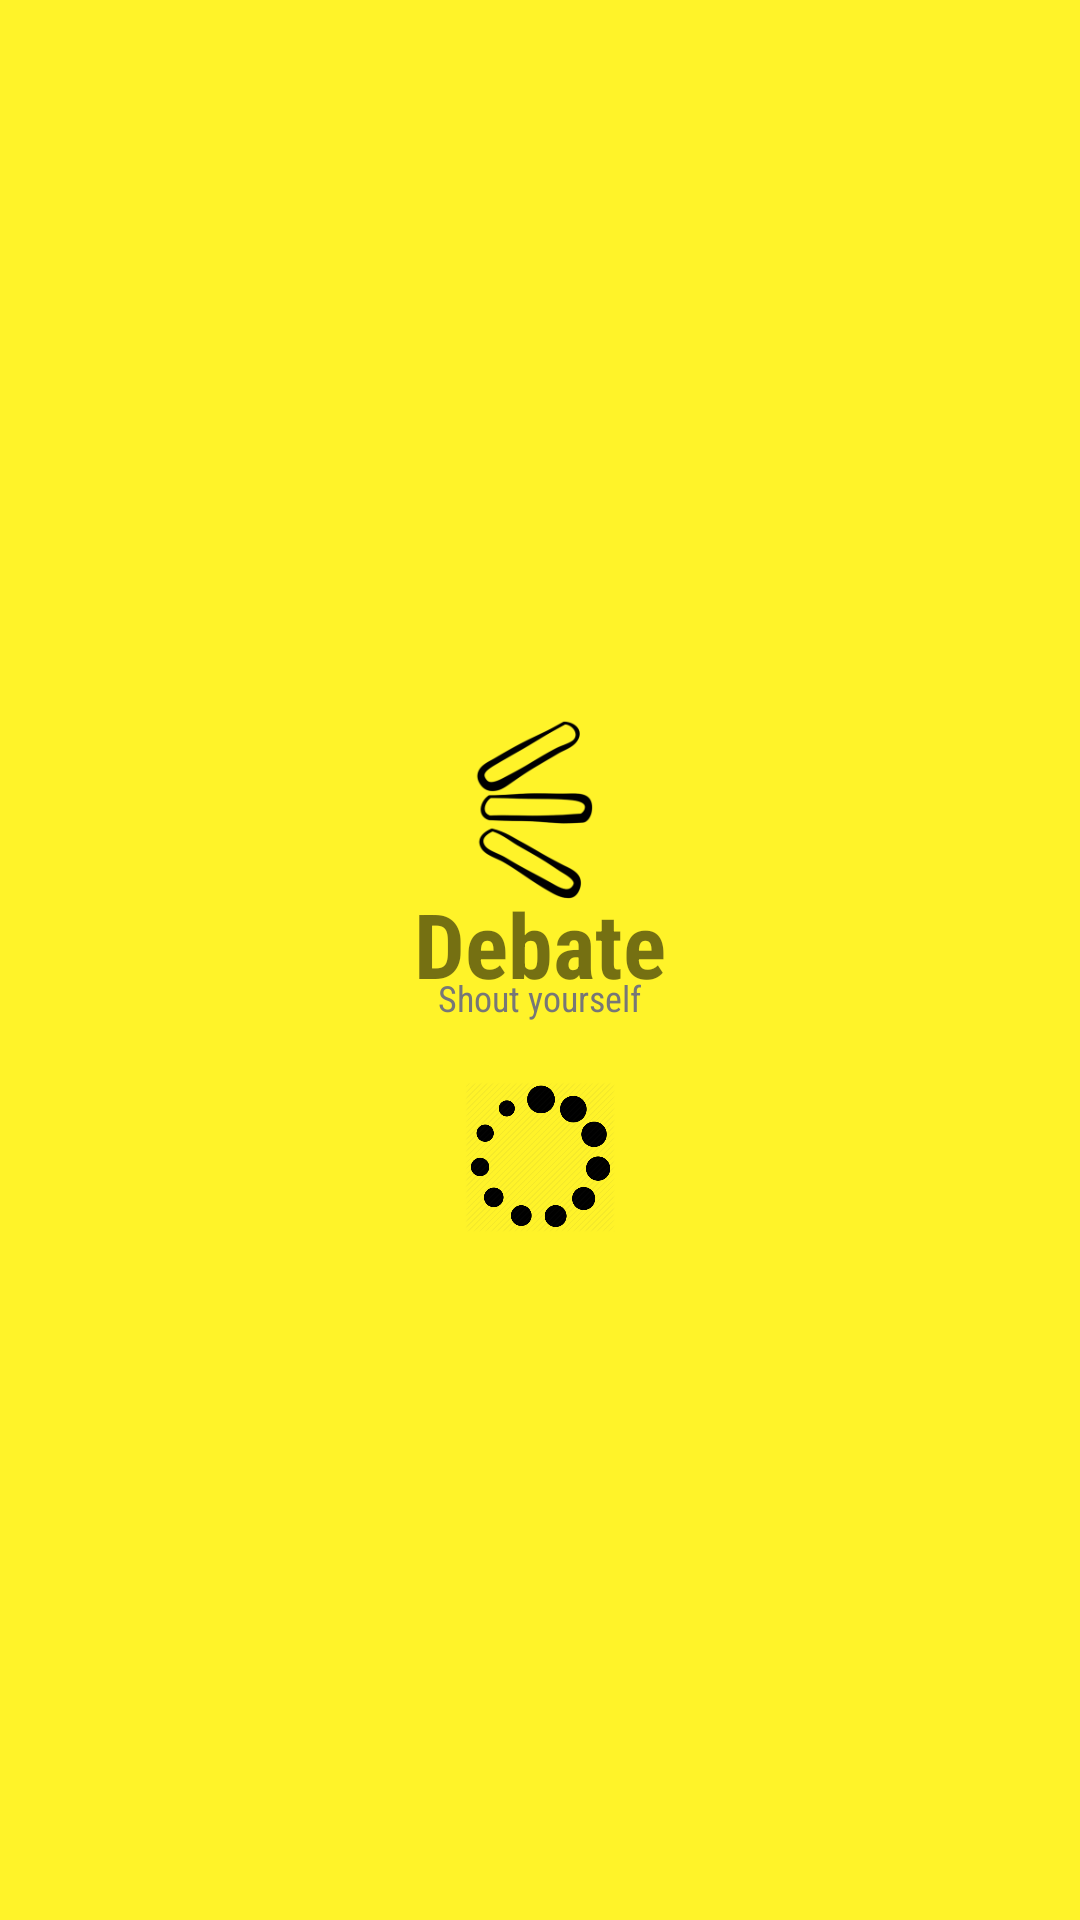

Icon click points for this 1080 x 1920 phone screenshot, format (x,y):
loader: (540,1156)
